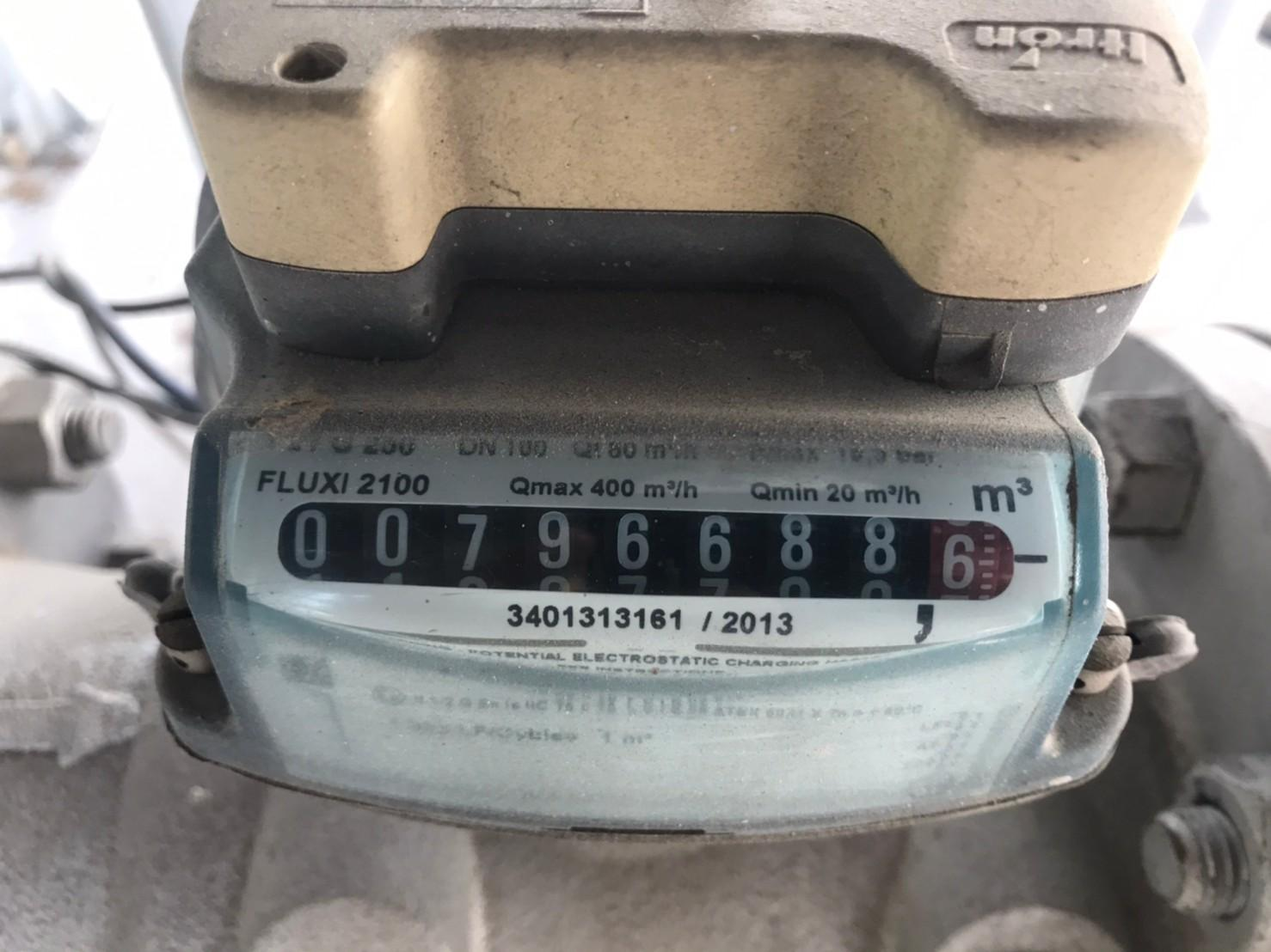analog_dial: (267, 483, 1051, 626)
